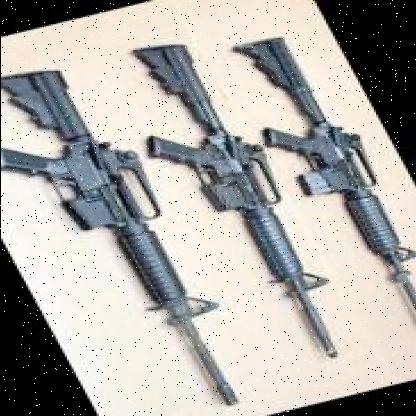rifle: (0, 53, 264, 416), (98, 32, 368, 378), (207, 21, 416, 353)
